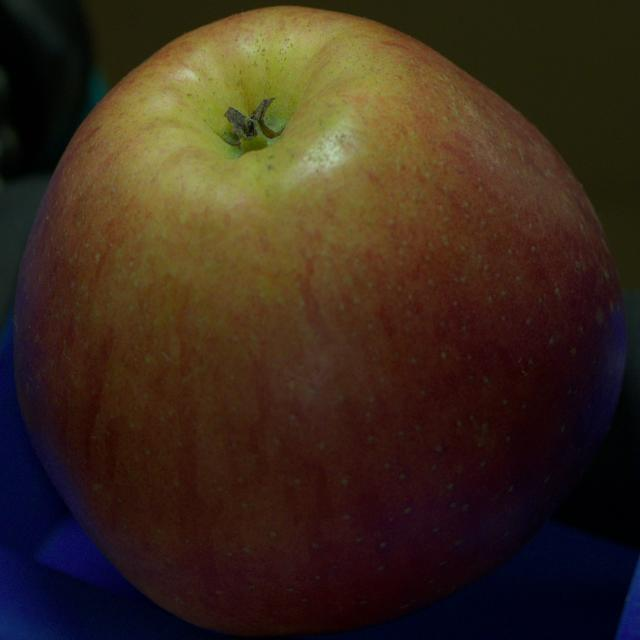apple: (14, 7, 624, 634)
